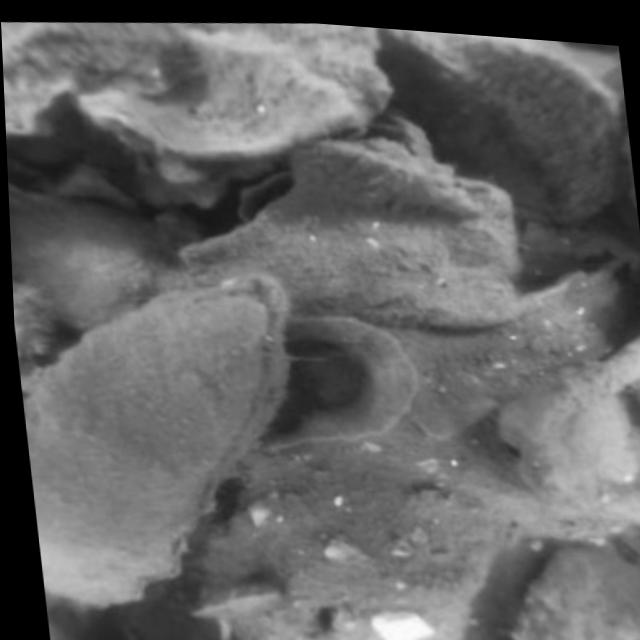Oyster-Closed: (30, 276, 290, 597)
Oyster-Indeterminate: (175, 142, 523, 327), (176, 472, 489, 640), (386, 30, 611, 223), (242, 311, 421, 450), (1, 22, 186, 136), (8, 190, 155, 325), (281, 139, 484, 216), (247, 576, 473, 640), (512, 549, 640, 640), (13, 283, 54, 364)
